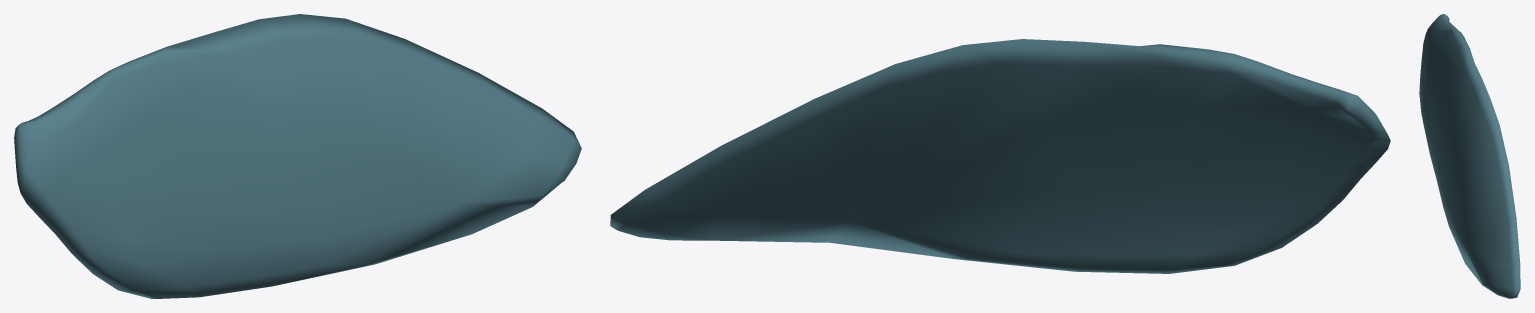
The model's file is Rectus_anterior_capitis_atlas_left.glb.
3 renders of one model, left to right at view 1: azimuth 30°, elevation 25°; view 2: azimuth 150°, elevation 25°; view 3: azimuth 270°, elevation 25°, orthographic. The views are drawn at different scales.
Visible parts, largest first — view 1: Rectus_anterior_capitis_muscle_on_atlas.l_Generated_Mesh_Fro; view 2: Rectus_anterior_capitis_muscle_on_atlas.l_Generated_Mesh_Fro; view 3: Rectus_anterior_capitis_muscle_on_atlas.l_Generated_Mesh_Fro.
Boxes of the visible parts, box(x1,y1,x2,y2) form: Rectus_anterior_capitis_muscle_on_atlas.l_Generated_Mesh_Fro: box(14, 14, 581, 298); Rectus_anterior_capitis_muscle_on_atlas.l_Generated_Mesh_Fro: box(610, 39, 1390, 273); Rectus_anterior_capitis_muscle_on_atlas.l_Generated_Mesh_Fro: box(1419, 14, 1520, 298).
Bounding box in the file's own units: 0.0162 × 0.00635 × 0.00414.
